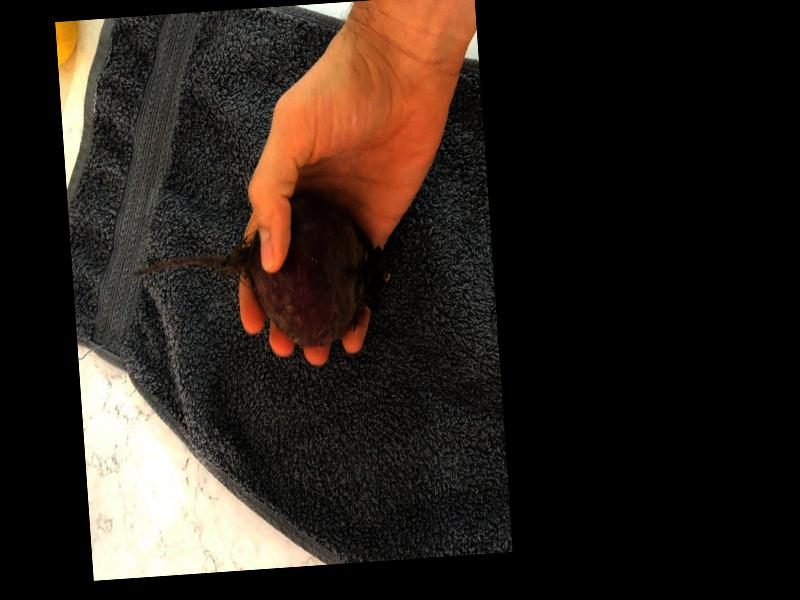Beet: (130, 190, 388, 360)
